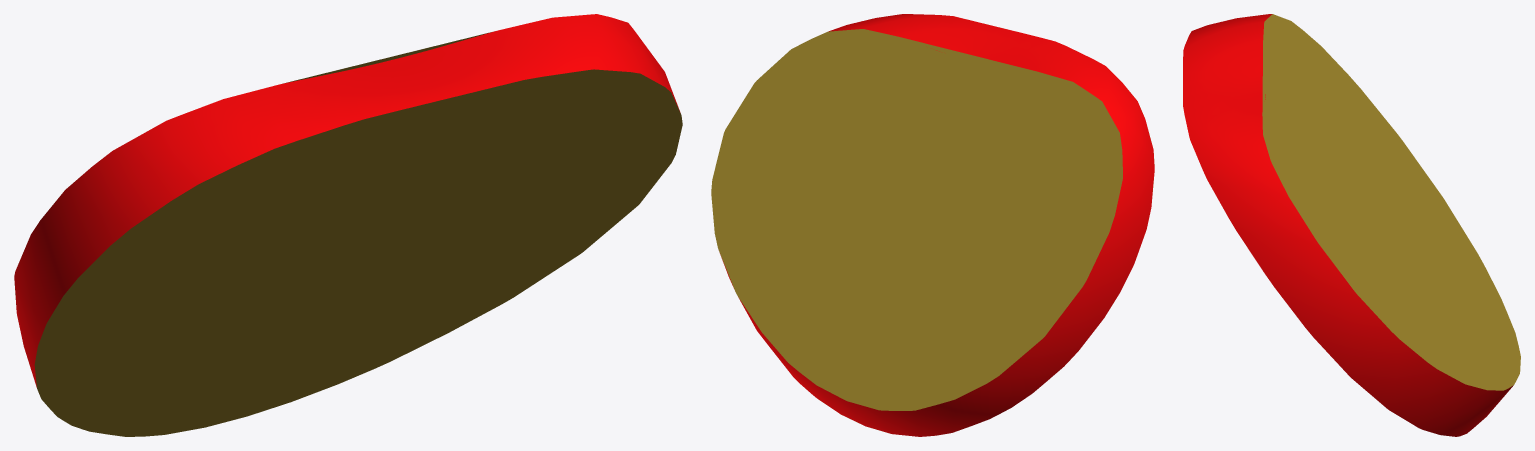
Rendered from apple04.fbx.
The picture shows the model from 3 angles, left to right: view 1: azimuth 30°, elevation 25°; view 2: azimuth 150°, elevation 25°; view 3: azimuth 270°, elevation 25°; orthographic projection. The views are drawn at different scales.
Parts seen in each view (by area): view 1: apple04; view 2: apple04; view 3: apple04.
Part boxes in pixels (x1,y1,x2,y2): apple04: (14, 14, 682, 436); apple04: (711, 14, 1154, 436); apple04: (1183, 14, 1520, 436).
Bounding box in the file's own units: 0.1908 × 0.1391 × 0.1262.
